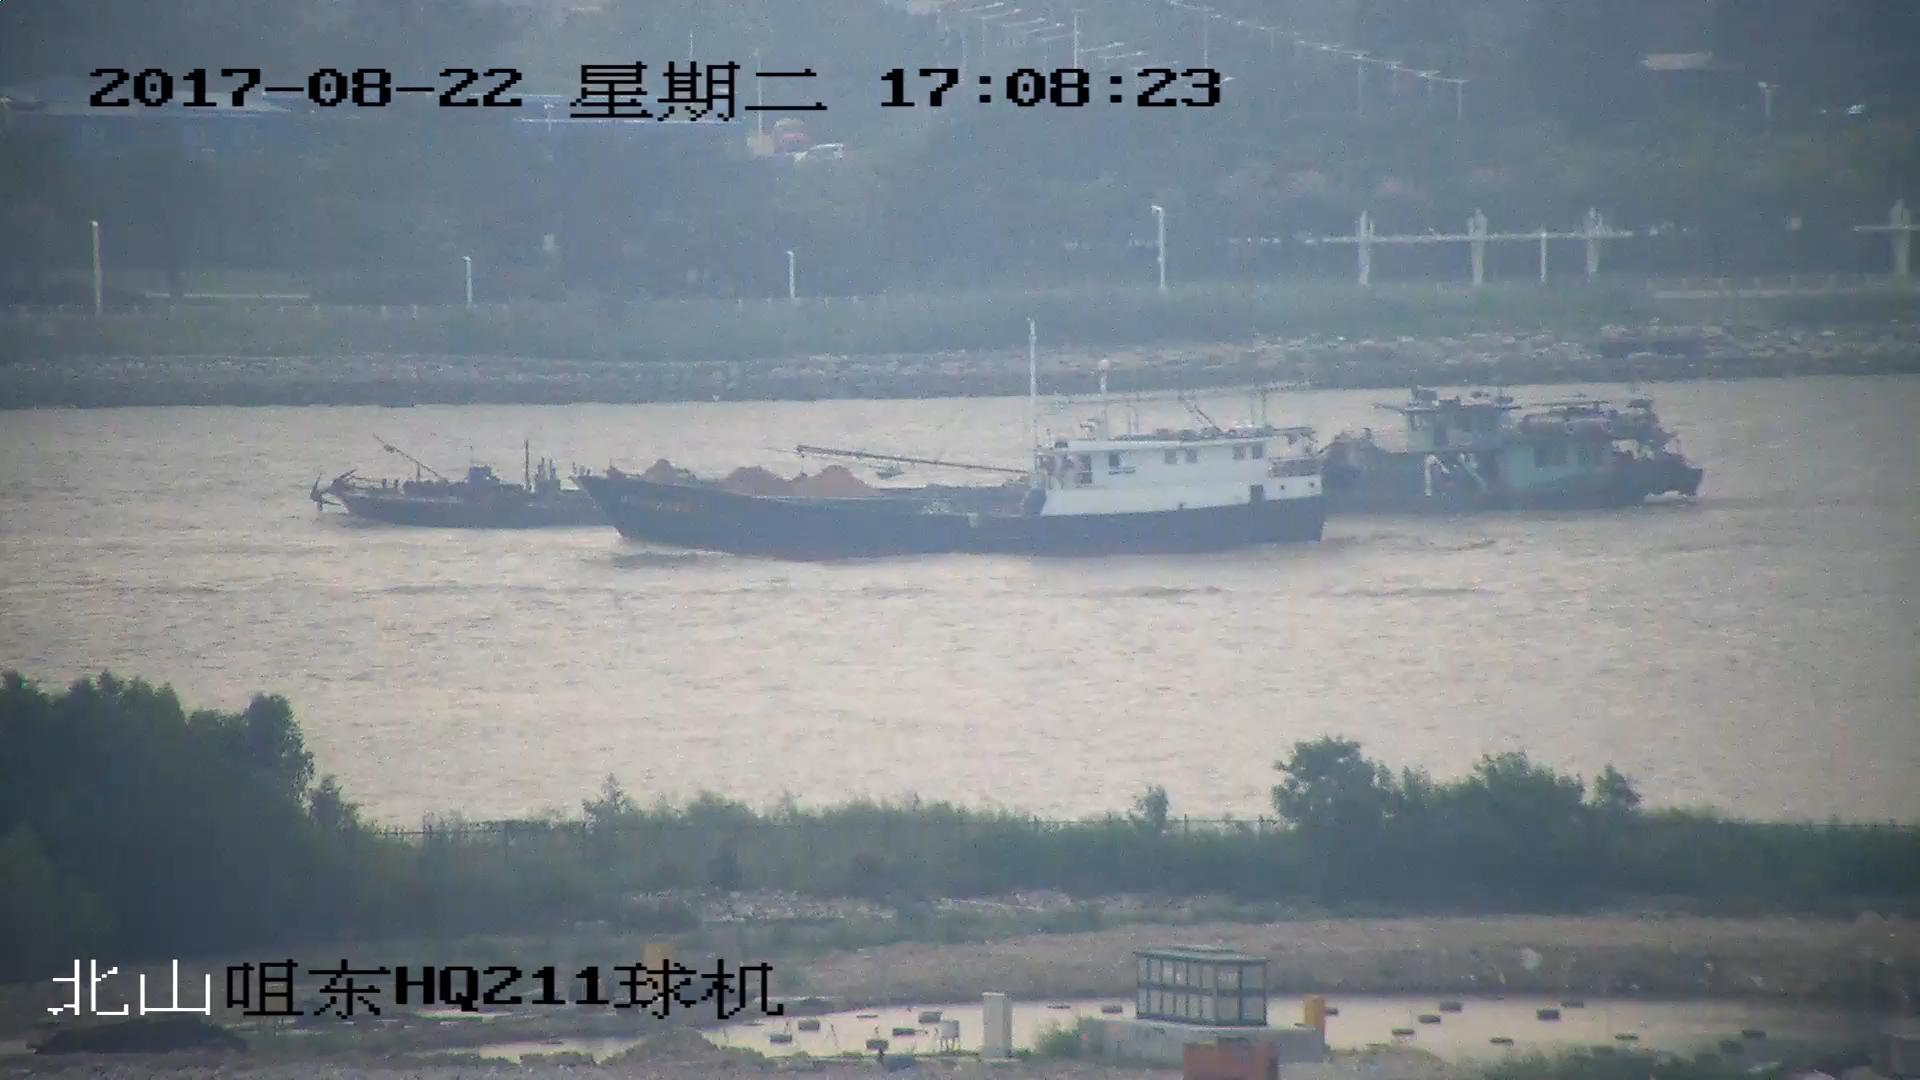Ship: (307, 385, 1702, 524), (589, 364, 1327, 553)
